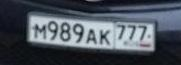license-plate: (28, 13, 157, 53)
